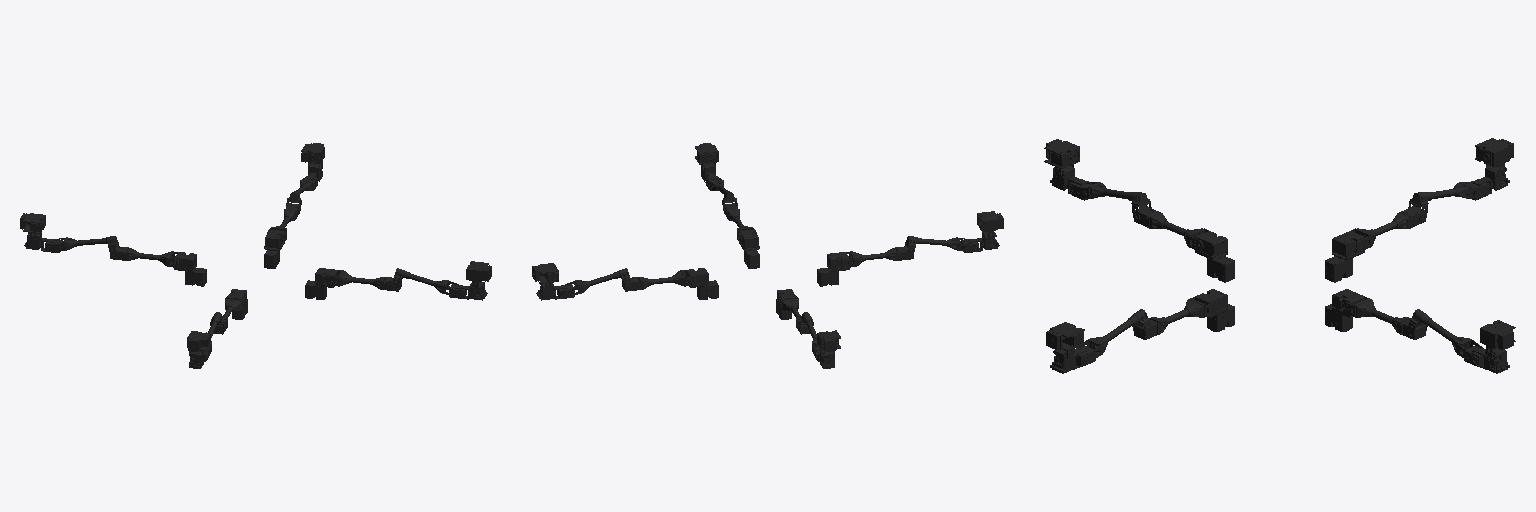
--- What the picture shows (computed from the rendered views, not written in the file) ---
3 views of the same robot in one strip: view 1: azimuth 30°, elevation 25°; view 2: azimuth 150°, elevation 25°; view 3: azimuth 270°, elevation 25° (orthographic).
Robot: LIMBERO — 37 links, 36 joints (24 revolute, 4 continuous, 8 fixed); root link base_link; default pose: all joints at 0.
Visible links, largest first — view 1: RF_femur, LH_femur, RF_tibia, LH_tibia; view 2: LF_femur, RH_femur, LF_tibia, RH_tibia; view 3: LF_femur, RF_femur, LH_femur, RH_femur, LF_tibia, RF_tibia, LH_driving_Link, LH_tibia, RF_driving_Link, RH_tibia, LF_driving_Link, RH_driving_Link (+4 smaller).
Link boxes in pixels (left/top/right/bottom): RF_femur: left=328, top=270, right=401, bottom=291; LH_femur: left=110, top=246, right=178, bottom=267; RF_tibia: left=392, top=268, right=461, bottom=297; LH_tibia: left=47, top=236, right=119, bottom=256; LF_femur: left=622, top=270, right=695, bottom=291; RH_femur: left=845, top=246, right=913, bottom=267; LF_tibia: left=562, top=268, right=631, bottom=297; RH_tibia: left=904, top=236, right=976, bottom=256; LF_femur: left=1344, top=296, right=1425, bottom=339; RF_femur: left=1134, top=296, right=1215, bottom=339; LH_femur: left=1351, top=206, right=1425, bottom=250; RH_femur: left=1134, top=206, right=1208, bottom=250; LF_tibia: left=1408, top=309, right=1485, bottom=364; RF_tibia: left=1074, top=309, right=1151, bottom=364; LH_driving_Link: left=1475, top=138, right=1513, bottom=176; LH_tibia: left=1408, top=181, right=1488, bottom=218; RF_driving_Link: left=1046, top=322, right=1084, bottom=358; RH_tibia: left=1071, top=181, right=1151, bottom=218; LF_driving_Link: left=1480, top=320, right=1515, bottom=358; RH_driving_Link: left=1044, top=139, right=1079, bottom=176.
Size in the robot's own frame: 1.05 by 1.05 by 0.16 metres.
32 mesh visuals loaded from 10 distinct referenced files (8 binary STL); not drawn: 5 (reference not matched to a file when rendering).

robot.urdf — LIMBERO:
<?xml version="1.0" ?>
<!-- =================================================================================== -->
<!-- |    This document was autogenerated by xacro from LIMBERO.xacro                  | -->
<!-- |    EDITING THIS FILE BY HAND IS NOT RECOMMENDED                                 | -->
<!-- =================================================================================== -->
<robot name="LIMBERO">
  <gazebo>
    <!-- ros_control plugin -->
    <plugin filename="libgazebo_ros2_control.so" name="gazebo_ros2_control">
      <parameters>/lbr_description/config/lbr_controller_with_grieel.yaml</parameters>
    </plugin>
  </gazebo>
  <link name="base_link">
    <inertial>
      <origin rpy="0 0 0" xyz="0 0 -0.0030083"/>
      <mass value="3.1152"/>
      <inertia ixx="0.0036482" ixy="7.8081E-07" ixz="1.7521E-06" iyy="0.0062179" iyz="-1.4424E-06" izz="0.0034682"/>
    </inertial>
    <visual>
      <origin rpy="0 0 0" xyz="0 0 0"/>
      <geometry>
        <mesh filename="meshes/base.STL" scale="1.0 1.0 1.0"/>
      </geometry>
      <material name="">
        <color rgba="0.2 0.2 0.2 1"/>
      </material>
    </visual>
    <collision>
      <origin rpy="0 0 0" xyz="0 0 0"/>
      <geometry>
        <mesh filename="meshes/base.STL" scale="1.0 1.0 1.0"/>
      </geometry>
    </collision>
  </link>
  <gazebo reference="base_link">
    <material>Gazebo/Black</material>
    <visual>
      <material>
        <ambient>0.2 0.2 0.2 1</ambient>
        <diffuse>0.2 0.2 0.2 1</diffuse>
        <specular>0.01 0.01 0.01 1</specular>
        <emissive>0.01 0.01 0.01 1</emissive>
      </material>
    </visual>
  </gazebo>
  <joint name="LF_joint" type="fixed">
    <origin rpy="0 0 0.7853981633974483" xyz="0.14142135623730953 0.1414213562373095 0"/>
    <parent link="base_link"/>
    <child link="LF_limb_root"/>
  </joint>
  <link name="LF_limb_root">
    <inertial>
      <origin rpy="0 0 0" xyz="-0.015029 -7.7571E-11 -0.047318"/>
      <mass value="0.08459"/>
      <inertia ixx="2.1548E-05" ixy="-4.775E-14" ixz="-1.6188E-07" iyy="3.834E-05" iyz="-8.2973E-14" izz="3.1728E-05"/>
    </inertial>
    <visual>
      <origin rpy="0 0 0" xyz="0 0 0"/>
      <geometry>
        <mesh filename="meshes/limb_root.STL"/>
      </geometry>
      <material name="">
        <color rgba="0.2 0.2 0.2 1"/>
      </material>
    </visual>
    <collision>
      <origin rpy="0 0 0" xyz="0 0 0"/>
      <geometry>
        <mesh filename="meshes/limb_root.STL"/>
      </geometry>
    </collision>
  </link>
  <link name="LF_coxa">
    <inertial>
      <origin rpy="0 0 0" xyz="0.015938 0.00063302 -0.0015013"/>
      <mass value="0.09109"/>
      <inertia ixx="2.352E-05" ixy="-1.6188E-07" ixz="4.775E-14" iyy="3.3634E-05" iyz="8.2973E-14" izz="4.2122E-05"/>
    </inertial>
    <visual>
      <origin rpy="0 0 0" xyz="0 0 0"/>
      <geometry>
        <mesh filename="meshes/coxa.STL"/>
      </geometry>
      <material name="">
        <color rgba="0.2 0.2 0.2 1"/>
      </material>
    </visual>
    <collision>
      <origin rpy="0 0 0" xyz="0 0 0"/>
      <geometry>
        <mesh filename="meshes/coxa.STL"/>
      </geometry>
    </collision>
  </link>
  <joint name="LF_B2C" type="revolute">
    <origin rpy="0 0 0" xyz="0 0 0"/>
    <parent link="LF_limb_root"/>
    <child link="LF_coxa"/>
    <axis xyz="0 0 1"/>
    <limit effort="5" lower="-3.14" upper="3.14" velocity="5"/>
    <dynamics damping="0.1" friction="0.4"/>
  </joint>
  <link name="LF_femur">
    <inertial>
      <origin rpy="0 0 0" xyz="0.10083 0.00014739 -3.217E-08"/>
      <mass value="0.12821"/>
      <inertia ixx="3.7005E-05" ixy="-1.9987E-08" ixz="-3.8346E-12" iyy="2.9934E-05" iyz="2.5988E-11" izz="4.8164E-05"/>
    </inertial>
    <visual>
      <origin rpy="0 0 0" xyz="0 0 0"/>
      <geometry>
        <mesh filename="meshes/femur.STL"/>
      </geometry>
      <material name="">
        <color rgba="0.2 0.2 0.2 1"/>
      </material>
    </visual>
    <collision>
      <origin rpy="0 0 0" xyz="0 0 0"/>
      <geometry>
        <mesh filename="meshes/femur.STL"/>
      </geometry>
    </collision>
  </link>
  <joint name="LF_C2F" type="revolute">
    <origin rpy="0 0 0" xyz="0.031 0 0"/>
    <parent link="LF_coxa"/>
    <child link="LF_femur"/>
    <axis xyz="0 1 0"/>
    <limit effort="5" lower="-3.14" upper="3.14" velocity="5"/>
    <dynamics damping="0.1" friction="0.4"/>
  </joint>
  <link name="LF_tibia">
    <inertial>
      <origin rpy="0 0 0" xyz="0.10298 1.1638E-07 0.019231"/>
      <mass value="0.061841"/>
      <inertia ixx="1.5486E-05" ixy="4.7072E-09" ixz="2.5637E-06" iyy="2.1826E-05" iyz="2.414E-08" izz="2.8843E-05"/>
    </inertial>
    <visual>
      <origin rpy="0 0 0" xyz="0 0 0"/>
      <geometry>
        <mesh filename="meshes/tibia.STL"/>
      </geometry>
      <material name="">
        <color rgba="0.2 0.2 0.2 1"/>
      </material>
    </visual>
    <collision>
      <origin rpy="0 0 0" xyz="0 0 0"/>
      <geometry>
        <mesh filename="meshes/tibia.STL"/>
      </geometry>
    </collision>
  </link>
  <joint name="LF_F2T" type="revolute">
    <origin rpy="0 0 0" xyz="0.2 0 0"/>
    <parent link="LF_femur"/>
    <child link="LF_tibia"/>
    <axis xyz="0 1 0"/>
    <limit effort="5" lower="-3.14" upper="3.14" velocity="5"/>
    <dynamics damping="0.1" friction="0.4"/>
  </joint>
  <link name="LF_limb_end">
    <inertial>
      <origin rpy="0 0 0" xyz="-0.011645 0.00042918 -9.53E-12"/>
      <mass value="0.081999"/>
      <inertia ixx="1.3061E-05" ixy="-3.7211E-08" ixz="3.1094E-14" iyy="1.9634E-05" iyz="-3.9438E-17" izz="2.2308E-05"/>
    </inertial>
    <visual>
      <origin rpy="0 0 0" xyz="0 0 0"/>
      <geometry>
        <mesh filename="meshes/limb_end.STL"/>
      </geometry>
      <material name="">
        <color rgba="0.2 0.2 0.2 1"/>
      </material>
    </visual>
    <collision>
      <origin rpy="0 0 0" xyz="0 0 0"/>
      <geometry>
        <mesh filename="meshes/limb_end.STL"/>
      </geometry>
    </collision>
  </link>
  <joint name="LF_T2E" type="revolute">
    <origin rpy="0 0 0" xyz="0.2 0 0"/>
    <parent link="LF_tibia"/>
    <child link="LF_limb_end"/>
    <axis xyz="0 1 0"/>
    <limit effort="5" lower="-3.14" upper="3.14" velocity="5"/>
    <dynamics damping="0.1" friction="0.4"/>
  </joint>
  <joint name="LH_joint" type="fixed">
    <origin rpy="0 0 2.356194490192345" xyz="-0.1414213562373095 0.14142135623730953 0"/>
    <parent link="base_link"/>
    <child link="LH_limb_root"/>
  </joint>
  <link name="LH_limb_root">
    <inertial>
      <origin rpy="0 0 0" xyz="-0.015029 -7.7571E-11 -0.047318"/>
      <mass value="0.08459"/>
      <inertia ixx="2.1548E-05" ixy="-4.775E-14" ixz="-1.6188E-07" iyy="3.834E-05" iyz="-8.2973E-14" izz="3.1728E-05"/>
    </inertial>
    <visual>
      <origin rpy="0 0 0" xyz="0 0 0"/>
      <geometry>
        <mesh filename="meshes/limb_root.STL"/>
      </geometry>
      <material name="">
        <color rgba="0.2 0.2 0.2 1"/>
      </material>
    </visual>
    <collision>
      <origin rpy="0 0 0" xyz="0 0 0"/>
      <geometry>
        <mesh filename="meshes/limb_root.STL"/>
      </geometry>
    </collision>
  </link>
  <link name="LH_coxa">
    <inertial>
      <origin rpy="0 0 0" xyz="0.015938 0.00063302 -0.0015013"/>
      <mass value="0.09109"/>
      <inertia ixx="2.352E-05" ixy="-1.6188E-07" ixz="4.775E-14" iyy="3.3634E-05" iyz="8.2973E-14" izz="4.2122E-05"/>
    </inertial>
    <visual>
      <origin rpy="0 0 0" xyz="0 0 0"/>
      <geometry>
        <mesh filename="meshes/coxa.STL"/>
      </geometry>
      <material name="">
        <color rgba="0.2 0.2 0.2 1"/>
      </material>
    </visual>
    <collision>
      <origin rpy="0 0 0" xyz="0 0 0"/>
      <geometry>
        <mesh filename="meshes/coxa.STL"/>
      </geometry>
    </collision>
  </link>
  <joint name="LH_B2C" type="revolute">
    <origin rpy="0 0 0" xyz="0 0 0"/>
    <parent link="LH_limb_root"/>
    <child link="LH_coxa"/>
    <axis xyz="0 0 1"/>
    <limit effort="5" lower="-3.14" upper="3.14" velocity="5"/>
    <dynamics damping="0.1" friction="0.4"/>
  </joint>
  <link name="LH_femur">
    <inertial>
      <origin rpy="0 0 0" xyz="0.10083 0.00014739 -3.217E-08"/>
      <mass value="0.12821"/>
      <inertia ixx="3.7005E-05" ixy="-1.9987E-08" ixz="-3.8346E-12" iyy="2.9934E-05" iyz="2.5988E-11" izz="4.8164E-05"/>
    </inertial>
    <visual>
      <origin rpy="0 0 0" xyz="0 0 0"/>
      <geometry>
        <mesh filename="meshes/femur.STL"/>
      </geometry>
      <material name="">
        <color rgba="0.2 0.2 0.2 1"/>
      </material>
    </visual>
    <collision>
      <origin rpy="0 0 0" xyz="0 0 0"/>
      <geometry>
        <mesh filename="meshes/femur.STL"/>
      </geometry>
    </collision>
  </link>
  <joint name="LH_C2F" type="revolute">
    <origin rpy="0 0 0" xyz="0.031 0 0"/>
    <parent link="LH_coxa"/>
    <child link="LH_femur"/>
    <axis xyz="0 1 0"/>
    <limit effort="5" lower="-3.14" upper="3.14" velocity="5"/>
    <dynamics damping="0.1" friction="0.4"/>
  </joint>
  <link name="LH_tibia">
    <inertial>
      <origin rpy="0 0 0" xyz="0.10298 1.1638E-07 0.019231"/>
      <mass value="0.061841"/>
      <inertia ixx="1.5486E-05" ixy="4.7072E-09" ixz="2.5637E-06" iyy="2.1826E-05" iyz="2.414E-08" izz="2.8843E-05"/>
    </inertial>
    <visual>
      <origin rpy="0 0 0" xyz="0 0 0"/>
      <geometry>
        <mesh filename="meshes/tibia.STL"/>
      </geometry>
      <material name="">
        <color rgba="0.2 0.2 0.2 1"/>
      </material>
    </visual>
    <collision>
      <origin rpy="0 0 0" xyz="0 0 0"/>
      <geometry>
        <mesh filename="meshes/tibia.STL"/>
      </geometry>
    </collision>
  </link>
  <joint name="LH_F2T" type="revolute">
    <origin rpy="0 0 0" xyz="0.2 0 0"/>
    <parent link="LH_femur"/>
    <child link="LH_tibia"/>
    <axis xyz="0 1 0"/>
    <limit effort="5" lower="-3.14" upper="3.14" velocity="5"/>
    <dynamics damping="0.1" friction="0.4"/>
  </joint>
  <link name="LH_limb_end">
    <inertial>
      <origin rpy="0 0 0" xyz="-0.011645 0.00042918 -9.53E-12"/>
      <mass value="0.081999"/>
      <inertia ixx="1.3061E-05" ixy="-3.7211E-08" ixz="3.1094E-14" iyy="1.9634E-05" iyz="-3.9438E-17" izz="2.2308E-05"/>
    </inertial>
    <visual>
      <origin rpy="0 0 0" xyz="0 0 0"/>
      <geometry>
        <mesh filename="meshes/limb_end.STL"/>
      </geometry>
      <material name="">
        <color rgba="0.2 0.2 0.2 1"/>
      </material>
    </visual>
    <collision>
      <origin rpy="0 0 0" xyz="0 0 0"/>
      <geometry>
        <mesh filename="meshes/limb_end.STL"/>
      </geometry>
    </collision>
  </link>
  <joint name="LH_T2E" type="revolute">
    <origin rpy="0 0 0" xyz="0.2 0 0"/>
    <parent link="LH_tibia"/>
    <child link="LH_limb_end"/>
    <axis xyz="0 1 0"/>
    <limit effort="5" lower="-3.14" upper="3.14" velocity="5"/>
    <dynamics damping="0.1" friction="0.4"/>
  </joint>
  <joint name="RH_joint" type="fixed">
    <origin rpy="0 0 3.9269908169872414" xyz="-0.14142135623730953 -0.1414213562373095 0"/>
    <parent link="base_link"/>
    <child link="RH_limb_root"/>
  </joint>
  <link name="RH_limb_root">
    <inertial>
      <origin rpy="0 0 0" xyz="-0.015029 -7.7571E-11 -0.047318"/>
      <mass value="0.08459"/>
      <inertia ixx="2.1548E-05" ixy="-4.775E-14" ixz="-1.6188E-07" iyy="3.834E-05" iyz="-8.2973E-14" izz="3.1728E-05"/>
    </inertial>
    <visual>
      <origin rpy="0 0 0" xyz="0 0 0"/>
      <geometry>
        <mesh filename="meshes/limb_root.STL"/>
      </geometry>
      <material name="">
        <color rgba="0.2 0.2 0.2 1"/>
      </material>
    </visual>
    <collision>
      <origin rpy="0 0 0" xyz="0 0 0"/>
      <geometry>
        <mesh filename="meshes/limb_root.STL"/>
      </geometry>
    </collision>
  </link>
  <link name="RH_coxa">
    <inertial>
      <origin rpy="0 0 0" xyz="0.015938 0.00063302 -0.0015013"/>
      <mass value="0.09109"/>
      <inertia ixx="2.352E-05" ixy="-1.6188E-07" ixz="4.775E-14" iyy="3.3634E-05" iyz="8.2973E-14" izz="4.2122E-05"/>
    </inertial>
    <visual>
      <origin rpy="0 0 0" xyz="0 0 0"/>
      <geometry>
        <mesh filename="meshes/coxa.STL"/>
      </geometry>
      <material name="">
        <color rgba="0.2 0.2 0.2 1"/>
      </material>
    </visual>
    <collision>
      <origin rpy="0 0 0" xyz="0 0 0"/>
      <geometry>
        <mesh filename="meshes/coxa.STL"/>
      </geometry>
    </collision>
  </link>
  <joint name="RH_B2C" type="revolute">
    <origin rpy="0 0 0" xyz="0 0 0"/>
    <parent link="RH_limb_root"/>
    <child link="RH_coxa"/>
    <axis xyz="0 0 1"/>
    <limit effort="5" lower="-3.14" upper="3.14" velocity="5"/>
    <dynamics damping="0.1" friction="0.4"/>
  </joint>
  <link name="RH_femur">
    <inertial>
      <origin rpy="0 0 0" xyz="0.10083 0.00014739 -3.217E-08"/>
      <mass value="0.12821"/>
      <inertia ixx="3.7005E-05" ixy="-1.9987E-08" ixz="-3.8346E-12" iyy="2.9934E-05" iyz="2.5988E-11" izz="4.8164E-05"/>
    </inertial>
    <visual>
      <origin rpy="0 0 0" xyz="0 0 0"/>
      <geometry>
        <mesh filename="meshes/femur.STL"/>
      </geometry>
      <material name="">
        <color rgba="0.2 0.2 0.2 1"/>
      </material>
    </visual>
    <collision>
      <origin rpy="0 0 0" xyz="0 0 0"/>
      <geometry>
        <mesh filename="meshes/femur.STL"/>
      </geometry>
    </collision>
  </link>
  <joint name="RH_C2F" type="revolute">
    <origin rpy="0 0 0" xyz="0.031 0 0"/>
    <parent link="RH_coxa"/>
    <child link="RH_femur"/>
    <axis xyz="0 1 0"/>
    <limit effort="5" lower="-3.14" upper="3.14" velocity="5"/>
    <dynamics damping="0.1" friction="0.4"/>
  </joint>
  <link name="RH_tibia">
    <inertial>
      <origin rpy="0 0 0" xyz="0.10298 1.1638E-07 0.019231"/>
      <mass value="0.061841"/>
      <inertia ixx="1.5486E-05" ixy="4.7072E-09" ixz="2.5637E-06" iyy="2.1826E-05" iyz="2.414E-08" izz="2.8843E-05"/>
    </inertial>
    <visual>
      <origin rpy="0 0 0" xyz="0 0 0"/>
      <geometry>
        <mesh filename="meshes/tibia.STL"/>
      </geometry>
      <material name="">
        <color rgba="0.2 0.2 0.2 1"/>
      </material>
    </visual>
    <collision>
      <origin rpy="0 0 0" xyz="0 0 0"/>
      <geometry>
        <mesh filename="meshes/tibia.STL"/>
      </geometry>
    </collision>
  </link>
  <joint name="RH_F2T" type="revolute">
    <origin rpy="0 0 0" xyz="0.2 0 0"/>
    <parent link="RH_femur"/>
    <child link="RH_tibia"/>
    <axis xyz="0 1 0"/>
    <limit effort="5" lower="-3.14" upper="3.14" velocity="5"/>
    <dynamics damping="0.1" friction="0.4"/>
  </joint>
  <link name="RH_limb_end">
    <inertial>
      <origin rpy="0 0 0" xyz="-0.011645 0.00042918 -9.53E-12"/>
      <mass value="0.081999"/>
      <inertia ixx="1.3061E-05" ixy="-3.7211E-08" ixz="3.1094E-14" iyy="1.9634E-05" iyz="-3.9438E-17" izz="2.2308E-05"/>
    </inertial>
    <visual>
      <origin rpy="0 0 0" xyz="0 0 0"/>
      <geometry>
        <mesh filename="meshes/limb_end.STL"/>
      </geometry>
      <material name="">
        <color rgba="0.2 0.2 0.2 1"/>
      </material>
    </visual>
    <collision>
      <origin rpy="0 0 0" xyz="0 0 0"/>
      <geometry>
        <mesh filename="meshes/limb_end.STL"/>
      </geometry>
    </collision>
  </link>
  <joint name="RH_T2E" type="revolute">
    <origin rpy="0 0 0" xyz="0.2 0 0"/>
    <parent link="RH_tibia"/>
    <child link="RH_limb_end"/>
    <axis xyz="0 1 0"/>
    <limit effort="5" lower="-3.14" upper="3.14" velocity="5"/>
    <dynamics damping="0.1" friction="0.4"/>
  </joint>
  <joint name="RF_joint" type="fixed">
    <origin rpy="0 0 5.497787143782138" xyz="0.14142135623730948 -0.14142135623730953 0"/>
    <parent link="base_link"/>
    <child link="RF_limb_root"/>
  </joint>
  <link name="RF_limb_root">
    <inertial>
      <origin rpy="0 0 0" xyz="-0.015029 -7.7571E-11 -0.047318"/>
      <mass value="0.08459"/>
      <inertia ixx="2.1548E-05" ixy="-4.775E-14" ixz="-1.6188E-07" iyy="3.834E-05" iyz="-8.2973E-14" izz="3.1728E-05"/>
    </inertial>
    <visual>
      <origin rpy="0 0 0" xyz="0 0 0"/>
      <geometry>
        <mesh filename="meshes/limb_root.STL"/>
      </geometry>
      <material name="">
        <color rgba="0.2 0.2 0.2 1"/>
      </material>
    </visual>
    <collision>
      <origin rpy="0 0 0" xyz="0 0 0"/>
      <geometry>
        <mesh filename="meshes/limb_root.STL"/>
      </geometry>
    </collision>
  </link>
  <link name="RF_coxa">
    <inertial>
      <origin rpy="0 0 0" xyz="0.015938 0.00063302 -0.0015013"/>
      <mass value="0.09109"/>
      <inertia ixx="2.352E-05" ixy="-1.6188E-07" ixz="4.775E-14" iyy="3.3634E-05" iyz="8.2973E-14" izz="4.2122E-05"/>
    </inertial>
    <visual>
      <origin rpy="0 0 0" xyz="0 0 0"/>
      <geometry>
        <mesh filename="meshes/coxa.STL"/>
      </geometry>
      <material name="">
        <color rgba="0.2 0.2 0.2 1"/>
      </material>
    </visual>
    <collision>
      <origin rpy="0 0 0" xyz="0 0 0"/>
      <geometry>
        <mesh filename="meshes/coxa.STL"/>
      </geometry>
    </collision>
  </link>
  <joint name="RF_B2C" type="revolute">
    <origin rpy="0 0 0" xyz="0 0 0"/>
    <parent link="RF_limb_root"/>
    <child link="RF_coxa"/>
    <axis xyz="0 0 1"/>
    <limit effort="5" lower="-3.14" upper="3.14" velocity="5"/>
    <dynamics damping="0.1" friction="0.4"/>
  </joint>
  <link name="RF_femur">
    <inertial>
      <origin rpy="0 0 0" xyz="0.10083 0.00014739 -3.217E-08"/>
      <mass value="0.12821"/>
      <inertia ixx="3.7005E-05" ixy="-1.9987E-08" ixz="-3.8346E-12" iyy="2.9934E-05" iyz="2.5988E-11" izz="4.8164E-05"/>
    </inertial>
    <visual>
      <origin rpy="0 0 0" xyz="0 0 0"/>
      <geometry>
        <mesh filename="meshes/femur.STL"/>
      </geometry>
      <material name="">
        <color rgba="0.2 0.2 0.2 1"/>
      </material>
    </visual>
    <collision>
      <origin rpy="0 0 0" xyz="0 0 0"/>
      <geometry>
        <mesh filename="meshes/femur.STL"/>
      </geometry>
    </collision>
  </link>
  <joint name="RF_C2F" type="revolute">
    <origin rpy="0 0 0" xyz="0.031 0 0"/>
    <parent link="RF_coxa"/>
    <child link="RF_femur"/>
    <axis xyz="0 1 0"/>
    <limit effort="5" lower="-3.14" upper="3.14" velocity="5"/>
    <dynamics damping="0.1" friction="0.4"/>
  </joint>
  <link name="RF_tibia">
    <inertial>
      <origin rpy="0 0 0" xyz="0.10298 1.1638E-07 0.019231"/>
      <mass value="0.061841"/>
      <inertia ixx="1.5486E-05" ixy="4.7072E-09" ixz="2.5637E-06" iyy="2.1826E-05" iyz="2.414E-08" izz="2.8843E-05"/>
    </inertial>
    <visual>
      <origin rpy="0 0 0" xyz="0 0 0"/>
      <geometry>
        <mesh filename="meshes/tibia.STL"/>
      </geometry>
      <material name="">
        <color rgba="0.2 0.2 0.2 1"/>
      </material>
    </visual>
    <collision>
      <origin rpy="0 0 0" xyz="0 0 0"/>
      <geometry>
        <mesh filename="meshes/tibia.STL"/>
      </geometry>
    </collision>
  </link>
  <joint name="RF_F2T" type="revolute">
    <origin rpy="0 0 0" xyz="0.2 0 0"/>
    <parent link="RF_femur"/>
    <child link="RF_tibia"/>
    <axis xyz="0 1 0"/>
    <limit effort="5" lower="-3.14" upper="3.14" velocity="5"/>
    <dynamics damping="0.1" friction="0.4"/>
  </joint>
  <link name="RF_limb_end">
    <inertial>
      <origin rpy="0 0 0" xyz="-0.011645 0.00042918 -9.53E-12"/>
      <mass value="0.081999"/>
      <inertia ixx="1.3061E-05" ixy="-3.7211E-08" ixz="3.1094E-14" iyy="1.9634E-05" iyz="-3.9438E-17" izz="2.2308E-05"/>
    </inertial>
    <visual>
      <origin rpy="0 0 0" xyz="0 0 0"/>
      <geometry>
        <mesh filename="meshes/limb_end.STL"/>
      </geometry>
      <material name="">
        <color rgba="0.2 0.2 0.2 1"/>
      </material>
    </visual>
    <collision>
      <origin rpy="0 0 0" xyz="0 0 0"/>
      <geometry>
        <mesh filename="meshes/limb_end.STL"/>
      </geometry>
    </collision>
  </link>
  <joint name="RF_T2E" type="revolute">
    <origin rpy="0 0 0" xyz="0.2 0 0"/>
    <parent link="RF_tibia"/>
    <child link="RF_limb_end"/>
    <axis xyz="0 1 0"/>
    <limit effort="5" lower="-3.14" upper="3.14" velocity="5"/>
    <dynamics damping="0.1" friction="0.4"/>
  </joint>
  <joint name="LF_E2grieel" type="fixed">
    <origin rpy="-1.5708 0 0" xyz="0 0 0"/>
    <parent link="LF_limb_end"/>
    <child link="LF_wristH_Link"/>
    <!-- <axis
        xyz="0 1 0" />
      <limit
        lower="0"
        upper="0"
        effort="0"
        velocity="0" /> -->
  </joint>
  <link name="LF_wristH_Link">
    <inertial>
      <origin rpy="0 0 0" xyz="0.011821 8.7424E-07 4.3619E-14"/>
      <mass value="0.00824"/>
      <inertia ixx="1.7943E-06" ixy="-3.8552E-19" ixz="7.4101E-19" iyy="2.9379E-06" iyz="-2.3646E-09" izz="1.6633E-06"/>
    </inertial>
    <visual>
      <origin rpy="0 0 0" xyz="0 0 0"/>
      <geometry>
        <mesh filename="meshes/wristH_Link.STL"/>
      </geometry>
      <material name="">
        <color rgba="0.2 0.2 0.2 1"/>
      </material>
    </visual>
    <collision>
      <origin rpy="0 0 0" xyz="0 0 0"/>
      <geometry>
        <mesh filename="meshes/wristH_Link.STL"/>
      </geometry>
    </collision>
  </link>
  <link name="LF_wristV_Link">
    <inertial>
      <origin rpy="0 0 0" xyz="0.0214166502499745 0.000471129500725836 0.0113219457469963"/>
      <mass value="0.102059813857681"/>
      <inertia ixx="2.51506057023328E-05" ixy="-5.87568310882068E-07" ixz="-5.02138918625881E-10" iyy="2.47069145197251E-05" iyz="-1.3142285327366E-09" izz="1.79824315026287E-05"/>
    </inertial>
    <visual>
      <origin rpy="0 0 0" xyz="0 0 0"/>
      <geometry>
        <mesh filename="meshes/wristV_Link.STL"/>
      </geometry>
      <material name="">
        <color rgba="0.2 0.2 0.2 1"/>
      </material>
    </visual>
    <collision>
      <origin rpy="0 0 0" xyz="0 0 0"/>
      <geometry>
        <mesh filename="meshes/wristV_Link.STL"/>
      </geometry>
    </collision>
  </link>
  <joint name="LF_wristH" type="revolute">
    <origin rpy="1.5708 0 0" xyz="0.025851 0 0"/>
    <parent link="LF_wristH_Link"/>
    <child link="LF_wristV_Link"/>
    <axis xyz="1 0 0"/>
    <limit effort="5" lower="-3.14159265358" upper="3.14159265358" velocity="5"/>
    <dynamics damping="0.1" friction="0.4"/>
  </joint>
  <link name="LF_driving_Link">
    <inertial>
      <origin rpy="0 0 0" xyz="5.44808065291863E-05 0.00431293338596027 0.0448909989385787"/>
      <mass value="0.132659951311712"/>
      <inertia ixx="3.76031003493078E-05" ixy="1.06164546307058E-08" ixz="7.08867360655478E-09" iyy="3.46919596241853E-05" iyz="4.14273177876885E-09" izz="4.32511275712205E-05"/>
    </inertial>
    <visual>
      <origin rpy="0 0 0" xyz="0 0 0"/>
      <geometry>
        <mesh filename="meshes/driving_Link.STL"/>
      </geometry>
      <material name="">
        <color rgba="0.2 0.2 0.2 1"/>
      </material>
    </visual>
    <collision>
      <origin rpy="0 0 0" xyz="0 0 0"/>
      <geometry>
        <mesh filename="meshes/driving_Link.STL"/>
      </geometry>
    </collision>
  </link>
  <joint name="LF_wristV" type="revolute">
    <origin rpy="0 0 0" xyz="0.0209 0 0.024008"/>
    <parent link="LF_wristV_Link"/>
    <child link="LF_driving_Link"/>
    <axis xyz="0 1 0"/>
    <limit effort="5" lower="-0.78539816339" upper="1.57079632679" velocity="5"/>
    <dynamics damping="0.1" friction="0.4"/>
  </joint>
  <link name="LF_gripper_Link">
    <inertial>
      <origin rpy="0 0 0" xyz="0.0710296935233056 0.0037135355484196 -0.00222742536711223"/>
      <mass value="0.415840817883391"/>
      <inertia ixx="0.000103581229161757" ixy="-5.56154912627397E-07" ixz="1.25700028997968E-06" iyy="5.98220979474832E-05" iyz="-5.92848495250994E-08" izz="8.09792661333327E-05"/>
    </inertial>
    <visual>
      <origin rpy="0 0 0" xyz="0 0 0"/>
      <geometry>
        <mesh filename="meshes/gripper_Link.STL"/>
      </geometry>
      <material name="">
        <color rgba="0.2 0.2 0.2 1"/>
      </material>
    </visual>
    <collision name="LF_gripper_Link_collision">
      <origin rpy="0 0 0" xyz="0 0 0"/>
      <geometry>
        <mesh filename="meshes/gripper_Link.STL"/>
      </geometry>
    </collision>
  </link>
  <joint name="LF_driving" type="continuous">
    <origin rpy="0 0 0" xyz="0.0131 0 0.04576"/>
    <parent link="LF_driving_Link"/>
    <child link="LF_gripper_Link"/>
    <axis xyz="-1 0 0"/>
    <dynamics damping="0.1" friction="0.4"/>
  </joint>
  <!-- Gazebo plugin for contact sensor, collision name like that because of parsing errors in the urdf  -->
  <gazebo reference="LF_gripper_Link">
    <sensor name="LF_gripper_bumper_sensor" type="contact">
      <always_on>true</always_on>
      <update_rate>100</update_rate>
      <contact>
        <collision>LF_gripper_Link_collision_collision</collision>
      </contact>
      <plugin filename="libgazebo_ros_bumper.so" name="LF_gripper_bumper">
        <ros>
          <namespace>LF</namespace>
        </ros>
        <frame_name>LF_gripper_link</frame_name>
      </plugin>
    </sensor>
  </gazebo>
  <joint name="LH_E2grieel" type="fixed">
    <origin rpy="-1.5708 0 0" xyz="0 0 0"/>
    <parent link="LH_limb_end"/>
    <child link="LH_wristH_Link"/>
    <!-- <axis
        xyz="0 1 0" />
      <limit
        lower="0"
        upper="0"
        effort="0"
        velocity="0" /> -->
  </joint>
  <link name="LH_wristH_Link">
    <inertial>
      <origin rpy="0 0 0" xyz="0.011821 8.7424E-07 4.3619E-14"/>
      <mass value="0.00824"/>
      <inertia ixx="1.7943E-06" ixy="-3.8552E-19" ixz="7.4101E-19" iyy="2.9379E-06" iyz="-2.3646E-09" izz="1.6633E-06"/>
    </inertial>
    <visual>
      <origin rpy="0 0 0" xyz="0 0 0"/>
      <geometry>
        <mesh filename="meshes/wristH_Link.STL"/>
      </geometry>
      <material name="">
        <color rgba="0.2 0.2 0.2 1"/>
      </material>
    </visual>
    <collision>
      <origin rpy="0 0 0" xyz="0 0 0"/>
      <geometry>
        <mesh filename="meshes/wristH_Link.STL"/>
      </geometry>
    </collision>
  </link>
  <link name="LH_wristV_Link">
    <inertial>
      <origin rpy="0 0 0" xyz="0.0214166502499745 0.000471129500725836 0.0113219457469963"/>
      <mass value="0.102059813857681"/>
      <inertia ixx="2.51506057023328E-05" ixy="-5.87568310882068E-07" ixz="-5.02138918625881E-10" iyy="2.47069145197251E-05" iyz="-1.3142285327366E-09" izz="1.79824315026287E-05"/>
    </inertial>
    <visual>
      <origin rpy="0 0 0" xyz="0 0 0"/>
      <geometry>
        <mesh filename="meshes/wristV_Link.STL"/>
      </geometry>
      <material name="">
        <color rgba="0.2 0.2 0.2 1"/>
      </material>
    </visual>
    <collision>
      <origin rpy="0 0 0" xyz="0 0 0"/>
      <geometry>
        <mesh filename="meshes/wristV_Link.STL"/>
      </geometry>
    </collision>
  </link>
  <joint name="LH_wristH" type="revolute">
    <origin rpy="1.5708 0 0" xyz="0.025851 0 0"/>
    <parent link="LH_wristH_Link"/>
    <child link="LH_wristV_Link"/>
    <axis xyz="1 0 0"/>
    <limit effort="5" lower="-3.14159265358" upper="3.14159265358" velocity="5"/>
    <dynamics damping="0.1" friction="0.4"/>
  </joint>
  <link name="LH_driving_Link">
    <inertial>
      <origin rpy="0 0 0" xyz="5.44808065291863E-05 0.00431293338596027 0.0448909989385787"/>
      <mass value="0.132659951311712"/>
      <inertia ixx="3.76031003493078E-05" ixy="1.06164546307058E-08" ixz="7.08867360655478E-09" iyy="3.46919596241853E-05" iyz="4.14273177876885E-09" izz="4.32511275712205E-05"/>
    </inertial>
    <visual>
      <origin rpy="0 0 0" xyz="0 0 0"/>
      <geometry>
        <mesh filename="meshes/driving_Link.STL"/>
      </geometry>
      <material name="">
        <color rgba="0.2 0.2 0.2 1"/>
      </material>
    </visual>
    <collision>
      <origin rpy="0 0 0" xyz="0 0 0"/>
      <geometry>
        <mesh filename="meshes/driving_Link.STL"/>
      </geometry>
    </collision>
  </link>
  <joint name="LH_wristV" type="revolute">
    <origin rpy="0 0 0" xyz="0.0209 0 0.024008"/>
    <parent link="LH_wristV_Link"/>
    <child link="LH_driving_Link"/>
    <axis xyz="0 1 0"/>
    <limit effort="5" lower="-0.78539816339" upper="1.57079632679" velocity="5"/>
    <dynamics damping="0.1" friction="0.4"/>
  </joint>
  <link name="LH_gripper_Link">
    <inertial>
      <origin rpy="0 0 0" xyz="0.0710296935233056 0.0037135355484196 -0.00222742536711223"/>
      <mass value="0.415840817883391"/>
      <inertia ixx="0.000103581229161757" ixy="-5.56154912627397E-07" ixz="1.25700028997968E-06" iyy="5.98220979474832E-05" iyz="-5.92848495250994E-08" izz="8.09792661333327E-05"/>
    </inertial>
    <visual>
      <origin rpy="0 0 0" xyz="0 0 0"/>
      <geometry>
        <mesh filename="meshes/gripper_Link.STL"/>
      </geometry>
      <material name="">
        <color rgba="0.2 0.2 0.2 1"/>
      </material>
    </visual>
    <collision name="LH_gripper_Link_collision">
      <origin rpy="0 0 0" xyz="0 0 0"/>
      <geometry>
        <mesh filename="meshes/gripper_Link.STL"/>
      </geometry>
    </collision>
  </link>
  <joint name="LH_driving" type="continuous">
    <origin rpy="0 0 0" xyz="0.0131 0 0.04576"/>
    <parent link="LH_driving_Link"/>
    <child link="LH_gripper_Link"/>
    <axis xyz="-1 0 0"/>
    <dynamics damping="0.1" friction="0.4"/>
  </joint>
  <!-- Gazebo plugin for contact sensor, collision name like that because of parsing errors in the urdf  -->
  <gazebo reference="LH_gripper_Link">
    <sensor name="LH_gripper_bumper_sensor" type="contact">
      <always_on>true</always_on>
      <update_rate>100</update_rate>
      <contact>
        <collision>LH_gripper_Link_collision_collision</collision>
      </contact>
      <plugin filename="libgazebo_ros_bumper.so" name="LH_gripper_bumper">
        <ros>
          <namespace>LH</namespace>
        </ros>
        <frame_name>LH_gripper_link</frame_name>
      </plugin>
    </sensor>
  </gazebo>
  <joint name="RH_E2grieel" type="fixed">
    <origin rpy="-1.5708 0 0" xyz="0 0 0"/>
    <parent link="RH_limb_end"/>
    <child link="RH_wristH_Link"/>
    <!-- <axis
        xyz="0 1 0" />
      <limit
        lower="0"
        upper="0"
        effort="0"
        velocity="0" /> -->
  </joint>
  <link name="RH_wristH_Link">
    <inertial>
      <origin rpy="0 0 0" xyz="0.011821 8.7424E-07 4.3619E-14"/>
      <mass value="0.00824"/>
      <inertia ixx="1.7943E-06" ixy="-3.8552E-19" ixz="7.4101E-19" iyy="2.9379E-06" iyz="-2.3646E-09" izz="1.6633E-06"/>
    </inertial>
    <visual>
      <origin rpy="0 0 0" xyz="0 0 0"/>
      <geometry>
        <mesh filename="meshes/wristH_Link.STL"/>
      </geometry>
      <material name="">
        <color rgba="0.2 0.2 0.2 1"/>
      </material>
    </visual>
    <collision>
      <origin rpy="0 0 0" xyz="0 0 0"/>
      <geometry>
        <mesh filename="meshes/wristH_Link.STL"/>
      </geometry>
    </collision>
  </link>
  <link name="RH_wristV_Link">
    <inertial>
      <origin rpy="0 0 0" xyz="0.0214166502499745 0.000471129500725836 0.0113219457469963"/>
      <mass value="0.102059813857681"/>
      <inertia ixx="2.51506057023328E-05" ixy="-5.87568310882068E-07" ixz="-5.02138918625881E-10" iyy="2.47069145197251E-05" iyz="-1.3142285327366E-09" izz="1.79824315026287E-05"/>
    </inertial>
    <visual>
      <origin rpy="0 0 0" xyz="0 0 0"/>
      <geometry>
        <mesh filename="meshes/wristV_Link.STL"/>
      </geometry>
      <material name="">
        <color rgba="0.2 0.2 0.2 1"/>
      </material>
    </visual>
    <collision>
      <origin rpy="0 0 0" xyz="0 0 0"/>
      <geometry>
        <mesh filename="meshes/wristV_Link.STL"/>
      </geometry>
    </collision>
  </link>
  <joint name="RH_wristH" type="revolute">
    <origin rpy="1.5708 0 0" xyz="0.025851 0 0"/>
    <parent link="RH_wristH_Link"/>
    <child link="RH_wristV_Link"/>
    <axis xyz="1 0 0"/>
    <limit effort="5" lower="-3.14159265358" upper="3.14159265358" velocity="5"/>
    <dynamics damping="0.1" friction="0.4"/>
  </joint>
  <link name="RH_driving_Link">
    <inertial>
      <origin rpy="0 0 0" xyz="5.44808065291863E-05 0.00431293338596027 0.0448909989385787"/>
      <mass value="0.132659951311712"/>
      <inertia ixx="3.76031003493078E-05" ixy="1.06164546307058E-08" ixz="7.08867360655478E-09" iyy="3.46919596241853E-05" iyz="4.14273177876885E-09" izz="4.32511275712205E-05"/>
    </inertial>
    <visual>
      <origin rpy="0 0 0" xyz="0 0 0"/>
      <geometry>
        <mesh filename="meshes/driving_Link.STL"/>
      </geometry>
      <material name="">
        <color rgba="0.2 0.2 0.2 1"/>
      </material>
    </visual>
    <collision>
      <origin rpy="0 0 0" xyz="0 0 0"/>
      <geometry>
        <mesh filename="meshes/driving_Link.STL"/>
      </geometry>
    </collision>
  </link>
  <joint name="RH_wristV" type="revolute">
    <origin rpy="0 0 0" xyz="0.0209 0 0.024008"/>
    <parent link="RH_wristV_Link"/>
    <child link="RH_driving_Link"/>
    <axis xyz="0 1 0"/>
    <limit effort="5" lower="-0.78539816339" upper="1.57079632679" velocity="5"/>
    <dynamics damping="0.1" friction="0.4"/>
  </joint>
  <link name="RH_gripper_Link">
    <inertial>
      <origin rpy="0 0 0" xyz="0.0710296935233056 0.0037135355484196 -0.00222742536711223"/>
      <mass value="0.415840817883391"/>
      <inertia ixx="0.000103581229161757" ixy="-5.56154912627397E-07" ixz="1.25700028997968E-06" iyy="5.98220979474832E-05" iyz="-5.92848495250994E-08" izz="8.09792661333327E-05"/>
    </inertial>
    <visual>
      <origin rpy="0 0 0" xyz="0 0 0"/>
      <geometry>
        <mesh filename="meshes/gripper_Link.STL"/>
      </geometry>
      <material name="">
        <color rgba="0.2 0.2 0.2 1"/>
      </material>
    </visual>
    <collision name="RH_gripper_Link_collision">
      <origin rpy="0 0 0" xyz="0 0 0"/>
      <geometry>
        <mesh filename="meshes/gripper_Link.STL"/>
      </geometry>
    </collision>
  </link>
  <joint name="RH_driving" type="continuous">
    <origin rpy="0 0 0" xyz="0.0131 0 0.04576"/>
    <parent link="RH_driving_Link"/>
    <child link="RH_gripper_Link"/>
    <axis xyz="-1 0 0"/>
    <dynamics damping="0.1" friction="0.4"/>
  </joint>
  <!-- Gazebo plugin for contact sensor, collision name like that because of parsing errors in the urdf  -->
  <gazebo reference="RH_gripper_Link">
    <sensor name="RH_gripper_bumper_sensor" type="contact">
      <always_on>true</always_on>
      <update_rate>100</update_rate>
      <contact>
        <collision>RH_gripper_Link_collision_collision</collision>
      </contact>
      <plugin filename="libgazebo_ros_bumper.so" name="RH_gripper_bumper">
        <ros>
          <namespace>RH</namespace>
        </ros>
        <frame_name>RH_gripper_link</frame_name>
      </plugin>
    </sensor>
  </gazebo>
  <joint name="RF_E2grieel" type="fixed">
    <origin rpy="-1.5708 0 0" xyz="0 0 0"/>
    <parent link="RF_limb_end"/>
    <child link="RF_wristH_Link"/>
    <!-- <axis
        xyz="0 1 0" />
      <limit
        lower="0"
        upper="0"
        effort="0"
        velocity="0" /> -->
  </joint>
  <link name="RF_wristH_Link">
    <inertial>
      <origin rpy="0 0 0" xyz="0.011821 8.7424E-07 4.3619E-14"/>
      <mass value="0.00824"/>
      <inertia ixx="1.7943E-06" ixy="-3.8552E-19" ixz="7.4101E-19" iyy="2.9379E-06" iyz="-2.3646E-09" izz="1.6633E-06"/>
    </inertial>
    <visual>
      <origin rpy="0 0 0" xyz="0 0 0"/>
      <geometry>
        <mesh filename="meshes/wristH_Link.STL"/>
      </geometry>
      <material name="">
        <color rgba="0.2 0.2 0.2 1"/>
      </material>
    </visual>
    <collision>
      <origin rpy="0 0 0" xyz="0 0 0"/>
      <geometry>
        <mesh filename="meshes/wristH_Link.STL"/>
      </geometry>
    </collision>
  </link>
  <link name="RF_wristV_Link">
    <inertial>
      <origin rpy="0 0 0" xyz="0.0214166502499745 0.000471129500725836 0.0113219457469963"/>
      <mass value="0.102059813857681"/>
      <inertia ixx="2.51506057023328E-05" ixy="-5.87568310882068E-07" ixz="-5.02138918625881E-10" iyy="2.47069145197251E-05" iyz="-1.3142285327366E-09" izz="1.79824315026287E-05"/>
    </inertial>
    <visual>
      <origin rpy="0 0 0" xyz="0 0 0"/>
      <geometry>
        <mesh filename="meshes/wristV_Link.STL"/>
      </geometry>
      <material name="">
        <color rgba="0.2 0.2 0.2 1"/>
      </material>
    </visual>
    <collision>
      <origin rpy="0 0 0" xyz="0 0 0"/>
      <geometry>
        <mesh filename="meshes/wristV_Link.STL"/>
      </geometry>
    </collision>
  </link>
  <joint name="RF_wristH" type="revolute">
    <origin rpy="1.5708 0 0" xyz="0.025851 0 0"/>
    <parent link="RF_wristH_Link"/>
    <child link="RF_wristV_Link"/>
    <axis xyz="1 0 0"/>
    <limit effort="5" lower="-3.14159265358" upper="3.14159265358" velocity="5"/>
    <dynamics damping="0.1" friction="0.4"/>
  </joint>
  <link name="RF_driving_Link">
    <inertial>
      <origin rpy="0 0 0" xyz="5.44808065291863E-05 0.00431293338596027 0.0448909989385787"/>
      <mass value="0.132659951311712"/>
      <inertia ixx="3.76031003493078E-05" ixy="1.06164546307058E-08" ixz="7.08867360655478E-09" iyy="3.46919596241853E-05" iyz="4.14273177876885E-09" izz="4.32511275712205E-05"/>
    </inertial>
    <visual>
      <origin rpy="0 0 0" xyz="0 0 0"/>
      <geometry>
        <mesh filename="meshes/driving_Link.STL"/>
      </geometry>
      <material name="">
        <color rgba="0.2 0.2 0.2 1"/>
      </material>
    </visual>
    <collision>
      <origin rpy="0 0 0" xyz="0 0 0"/>
      <geometry>
        <mesh filename="meshes/driving_Link.STL"/>
      </geometry>
    </collision>
  </link>
  <joint name="RF_wristV" type="revolute">
    <origin rpy="0 0 0" xyz="0.0209 0 0.024008"/>
    <parent link="RF_wristV_Link"/>
    <child link="RF_driving_Link"/>
    <axis xyz="0 1 0"/>
    <limit effort="5" lower="-0.78539816339" upper="1.57079632679" velocity="5"/>
    <dynamics damping="0.1" friction="0.4"/>
  </joint>
  <link name="RF_gripper_Link">
    <inertial>
      <origin rpy="0 0 0" xyz="0.0710296935233056 0.0037135355484196 -0.00222742536711223"/>
      <mass value="0.415840817883391"/>
      <inertia ixx="0.000103581229161757" ixy="-5.56154912627397E-07" ixz="1.25700028997968E-06" iyy="5.98220979474832E-05" iyz="-5.92848495250994E-08" izz="8.09792661333327E-05"/>
    </inertial>
    <visual>
      <origin rpy="0 0 0" xyz="0 0 0"/>
      <geometry>
        <mesh filename="meshes/gripper_Link.STL"/>
      </geometry>
      <material name="">
        <color rgba="0.2 0.2 0.2 1"/>
      </material>
    </visual>
    <collision name="RF_gripper_Link_collision">
      <origin rpy="0 0 0" xyz="0 0 0"/>
      <geometry>
        <mesh filename="meshes/gripper_Link.STL"/>
      </geometry>
    </collision>
  </link>
  <joint name="RF_driving" type="continuous">
    <origin rpy="0 0 0" xyz="0.0131 0 0.04576"/>
    <parent link="RF_driving_Link"/>
    <child link="RF_gripper_Link"/>
    <axis xyz="-1 0 0"/>
    <dynamics damping="0.1" friction="0.4"/>
  </joint>
  <!-- Gazebo plugin for contact sensor, collision name like that because of parsing errors in the urdf  -->
  <gazebo reference="RF_gripper_Link">
    <sensor name="RF_gripper_bumper_sensor" type="contact">
      <always_on>true</always_on>
      <update_rate>100</update_rate>
      <contact>
        <collision>RF_gripper_Link_collision_collision</collision>
      </contact>
      <plugin filename="libgazebo_ros_bumper.so" name="RF_gripper_bumper">
        <ros>
          <namespace>RF</namespace>
        </ros>
        <frame_name>RF_gripper_link</frame_name>
      </plugin>
    </sensor>
  </gazebo>
  <ros2_control name="LF_ros2_control" type="system">
    <hardware>
      <plugin>gazebo_ros2_control/GazeboSystem</plugin>
    </hardware>
    <joint name="LF_B2C">
      <command_interface name="position">
        <param name="min">-10</param>
        <param name="max">10</param>
      </command_interface>
      <command_interface name="velocity">
        <param name="min">-0.5</param>
        <param name="max">0.5</param>
      </command_interface>
      <command_interface name="effort">
        <param name="min">-10</param>
        <param name="max">10</param>
      </command_interface>
      <state_interface name="position">
        <!-- Set initial joint position -->
        <param name="initial_value"> 0.0 </param>
      </state_interface>
      <state_interface name="velocity"/>
    </joint>
    <joint name="LF_C2F">
      <command_interface name="position">
        <param name="min">-10</param>
        <param name="max">10</param>
      </command_interface>
      <command_interface name="velocity">
        <param name="min">-0.5</param>
        <param name="max">0.5</param>
      </command_interface>
      <command_interface name="effort">
        <param name="min">-10</param>
        <param name="max">10</param>
      </command_interface>
      <state_interface name="position">
        <param name="initial_value"> 0.0 </param>
      </state_interface>
      <state_interface name="velocity"/>
    </joint>
    <joint name="LF_F2T">
      <command_interface name="position">
        <param name="min">-10</param>
        <param name="max">10</param>
      </command_interface>
      <command_interface name="velocity">
        <param name="min">-0.5</param>
        <param name="max">0.5</param>
      </command_interface>
      <command_interface name="effort">
        <param name="min">-10</param>
        <param name="max">10</param>
      </command_interface>
      <state_interface name="position">
        <param name="initial_value"> 1.5707963267948966 </param>
      </state_interface>
      <state_interface name="velocity"/>
    </joint>
    <joint name="LF_T2E">
      <command_interface name="position">
        <param name="min">-10</param>
        <param name="max">10</param>
      </command_interface>
      <command_interface name="velocity">
        <param name="min">-0.5</param>
        <param name="max">0.5</param>
      </command_interface>
      <command_interface name="effort">
        <param name="min">-10</param>
        <param name="max">10</param>
      </command_interface>
      <state_interface name="position">
        <param name="initial_value"> 0.0 </param>
      </state_interface>
      <state_interface name="velocity"/>
    </joint>
    <joint name="LF_wristH">
      <command_interface name="position">
        <param name="min">-10</param>
        <param name="max">10</param>
      </command_interface>
      <command_interface name="velocity">
        <param name="min">-0.5</param>
        <param name="max">0.5</param>
      </command_interface>
      <command_interface name="effort">
        <param name="min">-10</param>
        <param name="max">10</param>
      </command_interface>
      <state_interface name="position">
        <param name="initial_value"> 0.0 </param>
      </state_interface>
      <state_interface name="velocity"/>
    </joint>
    <joint name="LF_wristV">
      <command_interface name="position">
        <param name="min">-10</param>
        <param name="max">10</param>
      </command_interface>
      <command_interface name="velocity">
        <param name="min">-0.5</param>
        <param name="max">0.5</param>
      </command_interface>
      <command_interface name="effort">
        <param name="min">-10</param>
        <param name="max">10</param>
      </command_interface>
      <state_interface name="position">
        <param name="initial_value"> 0.0 </param>
      </state_interface>
      <state_interface name="velocity"/>
    </joint>
    <joint name="LF_driving">
      <command_interface name="position">
        <param name="min">-10</param>
        <param name="max">10</param>
      </command_interface>
      <command_interface name="velocity">
        <param name="min">-0.5</param>
        <param name="max">0.5</param>
      </command_interface>
      <command_interface name="effort">
        <param name="min">-10</param>
        <param name="max">10</param>
      </command_interface>
      <state_interface name="position">
        <param name="initial_value"> 0.0 </param>
      </state_interface>
      <state_interface name="velocity"/>
    </joint>
  </ros2_control>
  <ros2_control name="LH_ros2_control" type="system">
    <hardware>
      <plugin>gazebo_ros2_control/GazeboSystem</plugin>
    </hardware>
    <joint name="LH_B2C">
      <command_interface name="position">
        <param name="min">-10</param>
        <param name="max">10</param>
      </command_interface>
      <command_interface name="velocity">
        <param name="min">-0.5</param>
        <param name="max">0.5</param>
      </command_interface>
      <command_interface name="effort">
        <param name="min">-10</param>
        <param name="max">10</param>
      </command_interface>
      <state_interface name="position">
        <!-- Set initial joint position -->
        <param name="initial_value"> 0.0 </param>
      </state_interface>
      <state_interface name="velocity"/>
    </joint>
    <joint name="LH_C2F">
      <command_interface name="position">
        <param name="min">-10</param>
        <param name="max">10</param>
      </command_interface>
      <command_interface name="velocity">
        <param name="min">-0.5</param>
        <param name="max">0.5</param>
      </command_interface>
      <command_interface name="effort">
        <param name="min">-10</param>
        <param name="max">10</param>
      </command_interface>
      <state_interface name="position">
        <param name="initial_value"> 0.0 </param>
      </state_interface>
      <state_interface name="velocity"/>
    </joint>
    <joint name="LH_F2T">
      <command_interface name="position">
        <param name="min">-10</param>
        <param name="max">10</param>
      </command_interface>
      <command_interface name="velocity">
        <param name="min">-0.5</param>
        <param name="max">0.5</param>
      </command_interface>
      <command_interface name="effort">
        <param name="min">-10</param>
        <param name="max">10</param>
      </command_interface>
      <state_interface name="position">
        <param name="initial_value"> 1.5707963267948966 </param>
      </state_interface>
      <state_interface name="velocity"/>
    </joint>
    <joint name="LH_T2E">
      <command_interface name="position">
        <param name="min">-10</param>
        <param name="max">10</param>
      </command_interface>
      <command_interface name="velocity">
        <param name="min">-0.5</param>
        <param name="max">0.5</param>
      </command_interface>
      <command_interface name="effort">
        <param name="min">-10</param>
        <param name="max">10</param>
      </command_interface>
      <state_interface name="position">
        <param name="initial_value"> 0.0 </param>
      </state_interface>
      <state_interface name="velocity"/>
    </joint>
    <joint name="LH_wristH">
      <command_interface name="position">
        <param name="min">-10</param>
        <param name="max">10</param>
      </command_interface>
      <command_interface name="velocity">
        <param name="min">-0.5</param>
        <param name="max">0.5</param>
      </command_interface>
      <command_interface name="effort">
        <param name="min">-10</param>
        <param name="max">10</param>
      </command_interface>
      <state_interface name="position">
        <param name="initial_value"> 0.0 </param>
      </state_interface>
      <state_interface name="velocity"/>
    </joint>
    <joint name="LH_wristV">
      <command_interface name="position">
        <param name="min">-10</param>
        <param name="max">10</param>
      </command_interface>
      <command_interface name="velocity">
        <param name="min">-0.5</param>
        <param name="max">0.5</param>
      </command_interface>
      <command_interface name="effort">
        <param name="min">-10</param>
        <param name="max">10</param>
      </command_interface>
      <state_interface name="position">
        <param name="initial_value"> 0.0 </param>
      </state_interface>
      <state_interface name="velocity"/>
    </joint>
    <joint name="LH_driving">
      <command_interface name="position">
        <param name="min">-10</param>
        <param name="max">10</param>
      </command_interface>
      <command_interface name="velocity">
        <param name="min">-0.5</param>
        <param name="max">0.5</param>
      </command_interface>
      <command_interface name="effort">
        <param name="min">-10</param>
        <param name="max">10</param>
      </command_interface>
      <state_interface name="position">
        <param name="initial_value"> 0.0 </param>
      </state_interface>
      <state_interface name="velocity"/>
    </joint>
  </ros2_control>
  <ros2_control name="RH_ros2_control" type="system">
    <hardware>
      <plugin>gazebo_ros2_control/GazeboSystem</plugin>
    </hardware>
    <joint name="RH_B2C">
      <command_interface name="position">
        <param name="min">-10</param>
        <param name="max">10</param>
      </command_interface>
      <command_interface name="velocity">
        <param name="min">-0.5</param>
        <param name="max">0.5</param>
      </command_interface>
      <command_interface name="effort">
        <param name="min">-10</param>
        <param name="max">10</param>
      </command_interface>
      <state_interface name="position">
        <!-- Set initial joint position -->
        <param name="initial_value"> 0.0 </param>
      </state_interface>
      <state_interface name="velocity"/>
    </joint>
    <joint name="RH_C2F">
      <command_interface name="position">
        <param name="min">-10</param>
        <param name="max">10</param>
      </command_interface>
      <command_interface name="velocity">
        <param name="min">-0.5</param>
        <param name="max">0.5</param>
      </command_interface>
      <command_interface name="effort">
        <param name="min">-10</param>
        <param name="max">10</param>
      </command_interface>
      <state_interface name="position">
        <param name="initial_value"> 0.0 </param>
      </state_interface>
      <state_interface name="velocity"/>
    </joint>
    <joint name="RH_F2T">
      <command_interface name="position">
        <param name="min">-10</param>
        <param name="max">10</param>
      </command_interface>
      <command_interface name="velocity">
        <param name="min">-0.5</param>
        <param name="max">0.5</param>
      </command_interface>
      <command_interface name="effort">
        <param name="min">-10</param>
        <param name="max">10</param>
      </command_interface>
      <state_interface name="position">
        <param name="initial_value"> 1.5707963267948966 </param>
      </state_interface>
      <state_interface name="velocity"/>
    </joint>
    <joint name="RH_T2E">
      <command_interface name="position">
        <param name="min">-10</param>
        <param name="max">10</param>
      </command_interface>
      <command_interface name="velocity">
        <param name="min">-0.5</param>
        <param name="max">0.5</param>
      </command_interface>
      <command_interface name="effort">
        <param name="min">-10</param>
        <param name="max">10</param>
      </command_interface>
      <state_interface name="position">
        <param name="initial_value"> 0.0 </param>
      </state_interface>
      <state_interface name="velocity"/>
    </joint>
    <joint name="RH_wristH">
      <command_interface name="position">
        <param name="min">-10</param>
        <param name="max">10</param>
      </command_interface>
      <command_interface name="velocity">
        <param name="min">-0.5</param>
        <param name="max">0.5</param>
      </command_interface>
      <command_interface name="effort">
        <param name="min">-10</param>
        <param name="max">10</param>
      </command_interface>
      <state_interface name="position">
        <param name="initial_value"> 0.0 </param>
      </state_interface>
      <state_interface name="velocity"/>
    </joint>
    <joint name="RH_wristV">
      <command_interface name="position">
        <param name="min">-10</param>
        <param name="max">10</param>
      </command_interface>
      <command_interface name="velocity">
        <param name="min">-0.5</param>
        <param name="max">0.5</param>
      </command_interface>
      <command_interface name="effort">
        <param name="min">-10</param>
        <param name="max">10</param>
      </command_interface>
      <state_interface name="position">
        <param name="initial_value"> 0.0 </param>
      </state_interface>
      <state_interface name="velocity"/>
    </joint>
    <joint name="RH_driving">
      <command_interface name="position">
        <param name="min">-10</param>
        <param name="max">10</param>
      </command_interface>
      <command_interface name="velocity">
        <param name="min">-0.5</param>
        <param name="max">0.5</param>
      </command_interface>
      <command_interface name="effort">
        <param name="min">-10</param>
        <param name="max">10</param>
      </command_interface>
      <state_interface name="position">
        <param name="initial_value"> 0.0 </param>
      </state_interface>
      <state_interface name="velocity"/>
    </joint>
  </ros2_control>
  <ros2_control name="RF_ros2_control" type="system">
    <hardware>
      <plugin>gazebo_ros2_control/GazeboSystem</plugin>
    </hardware>
    <joint name="RF_B2C">
      <command_interface name="position">
        <param name="min">-10</param>
        <param name="max">10</param>
      </command_interface>
      <command_interface name="velocity">
        <param name="min">-0.5</param>
        <param name="max">0.5</param>
      </command_interface>
      <command_interface name="effort">
        <param name="min">-10</param>
        <param name="max">10</param>
      </command_interface>
      <state_interface name="position">
        <!-- Set initial joint position -->
        <param name="initial_value"> 0.0 </param>
      </state_interface>
      <state_interface name="velocity"/>
    </joint>
    <joint name="RF_C2F">
      <command_interface name="position">
        <param name="min">-10</param>
        <param name="max">10</param>
      </command_interface>
      <command_interface name="velocity">
        <param name="min">-0.5</param>
        <param name="max">0.5</param>
      </command_interface>
      <command_interface name="effort">
        <param name="min">-10</param>
        <param name="max">10</param>
      </command_interface>
      <state_interface name="position">
        <param name="initial_value"> 0.0 </param>
      </state_interface>
      <state_interface name="velocity"/>
    </joint>
    <joint name="RF_F2T">
      <command_interface name="position">
        <param name="min">-10</param>
        <param name="max">10</param>
      </command_interface>
      <command_interface name="velocity">
        <param name="min">-0.5</param>
        <param name="max">0.5</param>
      </command_interface>
      <command_interface name="effort">
        <param name="min">-10</param>
        <param name="max">10</param>
      </command_interface>
      <state_interface name="position">
        <param name="initial_value"> 1.5707963267948966 </param>
      </state_interface>
      <state_interface name="velocity"/>
    </joint>
    <joint name="RF_T2E">
      <command_interface name="position">
        <param name="min">-10</param>
        <param name="max">10</param>
      </command_interface>
      <command_interface name="velocity">
        <param name="min">-0.5</param>
        <param name="max">0.5</param>
      </command_interface>
      <command_interface name="effort">
        <param name="min">-10</param>
        <param name="max">10</param>
      </command_interface>
      <state_interface name="position">
        <param name="initial_value"> 0.0 </param>
      </state_interface>
      <state_interface name="velocity"/>
    </joint>
    <joint name="RF_wristH">
      <command_interface name="position">
        <param name="min">-10</param>
        <param name="max">10</param>
      </command_interface>
      <command_interface name="velocity">
        <param name="min">-0.5</param>
        <param name="max">0.5</param>
      </command_interface>
      <command_interface name="effort">
        <param name="min">-10</param>
        <param name="max">10</param>
      </command_interface>
      <state_interface name="position">
        <param name="initial_value"> 0.0 </param>
      </state_interface>
      <state_interface name="velocity"/>
    </joint>
    <joint name="RF_wristV">
      <command_interface name="position">
        <param name="min">-10</param>
        <param name="max">10</param>
      </command_interface>
      <command_interface name="velocity">
        <param name="min">-0.5</param>
        <param name="max">0.5</param>
      </command_interface>
      <command_interface name="effort">
        <param name="min">-10</param>
        <param name="max">10</param>
      </command_interface>
      <state_interface name="position">
        <param name="initial_value"> 0.0 </param>
      </state_interface>
      <state_interface name="velocity"/>
    </joint>
    <joint name="RF_driving">
      <command_interface name="position">
        <param name="min">-10</param>
        <param name="max">10</param>
      </command_interface>
      <command_interface name="velocity">
        <param name="min">-0.5</param>
        <param name="max">0.5</param>
      </command_interface>
      <command_interface name="effort">
        <param name="min">-10</param>
        <param name="max">10</param>
      </command_interface>
      <state_interface name="position">
        <param name="initial_value"> 0.0 </param>
      </state_interface>
      <state_interface name="velocity"/>
    </joint>
  </ros2_control>
  <!-- Gazebo plugin for joint state publisher  -->
  <gazebo>
    <plugin filename="libgazebo_ros_joint_state_publisher.so" name="LF_joint_state">
      <ros>
        <namespace>LF</namespace>
        <remapping>~/out:=joint_states</remapping>
      </ros>
      <update_rate>30</update_rate>
      <!-- <joint_name>${prefix}_E2grieel</joint_name> -->
      <joint_name>LF_B2C</joint_name>
      <joint_name>LF_C2F</joint_name>
      <joint_name>LF_F2T</joint_name>
      <joint_name>LF_T2E</joint_name>
      <joint_name>LF_wristH</joint_name>
      <joint_name>LF_wristV</joint_name>
      <joint_name>LF_driving</joint_name>
    </plugin>
  </gazebo>
  <!-- Gazebo plugin for joint state publisher  -->
  <gazebo>
    <plugin filename="libgazebo_ros_joint_state_publisher.so" name="LH_joint_state">
      <ros>
        <namespace>LH</namespace>
        <remapping>~/out:=joint_states</remapping>
      </ros>
      <update_rate>30</update_rate>
      <!-- <joint_name>${prefix}_E2grieel</joint_name> -->
      <joint_name>LH_B2C</joint_name>
      <joint_name>LH_C2F</joint_name>
      <joint_name>LH_F2T</joint_name>
      <joint_name>LH_T2E</joint_name>
      <joint_name>LH_wristH</joint_name>
      <joint_name>LH_wristV</joint_name>
      <joint_name>LH_driving</joint_name>
    </plugin>
  </gazebo>
  <!-- Gazebo plugin for joint state publisher  -->
  <gazebo>
    <plugin filename="libgazebo_ros_joint_state_publisher.so" name="RH_joint_state">
      <ros>
        <namespace>RH</namespace>
        <remapping>~/out:=joint_states</remapping>
      </ros>
      <update_rate>30</update_rate>
      <!-- <joint_name>${prefix}_E2grieel</joint_name> -->
      <joint_name>RH_B2C</joint_name>
      <joint_name>RH_C2F</joint_name>
      <joint_name>RH_F2T</joint_name>
      <joint_name>RH_T2E</joint_name>
      <joint_name>RH_wristH</joint_name>
      <joint_name>RH_wristV</joint_name>
      <joint_name>RH_driving</joint_name>
    </plugin>
  </gazebo>
  <!-- Gazebo plugin for joint state publisher  -->
  <gazebo>
    <plugin filename="libgazebo_ros_joint_state_publisher.so" name="RF_joint_state">
      <ros>
        <namespace>RF</namespace>
        <remapping>~/out:=joint_states</remapping>
      </ros>
      <update_rate>30</update_rate>
      <!-- <joint_name>${prefix}_E2grieel</joint_name> -->
      <joint_name>RF_B2C</joint_name>
      <joint_name>RF_C2F</joint_name>
      <joint_name>RF_F2T</joint_name>
      <joint_name>RF_T2E</joint_name>
      <joint_name>RF_wristH</joint_name>
      <joint_name>RF_wristV</joint_name>
      <joint_name>RF_driving</joint_name>
    </plugin>
  </gazebo>
  <gazebo reference="LF_gripper_Link">
    <mu1>0.5</mu1>
    <mu2>0.5</mu2>
    <kp>1000000</kp>
    <kd>1.0</kd>
  </gazebo>
  <gazebo reference="LF_femur">
    <material>Gazebo/Black</material>
    <visual>
      <material>
        <ambient>0.2 0.2 0.2 1</ambient>
        <diffuse>0.2 0.2 0.2 1</diffuse>
        <specular>0.01 0.01 0.01 1</specular>
        <emissive>0.01 0.01 0.01 1</emissive>
      </material>
    </visual>
  </gazebo>
  <gazebo reference="LF_tibia">
    <material>Gazebo/Black</material>
    <visual>
      <material>
        <ambient>0.2 0.2 0.2 1</ambient>
        <diffuse>0.2 0.2 0.2 1</diffuse>
        <specular>0.01 0.01 0.01 1</specular>
        <emissive>0.01 0.01 0.01 1</emissive>
      </material>
    </visual>
  </gazebo>
  <gazebo reference="LF_limb_end">
    <material>Gazebo/Black</material>
    <visual>
      <material>
        <ambient>0.2 0.2 0.2 1</ambient>
        <diffuse>0.2 0.2 0.2 1</diffuse>
        <specular>0.01 0.01 0.01 1</specular>
        <emissive>0.01 0.01 0.01 1</emissive>
      </material>
    </visual>
  </gazebo>
  <gazebo reference="LF_limb_root">
    <material>Gazebo/Black</material>
    <visual>
      <material>
        <ambient>0.2 0.2 0.2 1</ambient>
        <diffuse>0.2 0.2 0.2 1</diffuse>
        <specular>0.01 0.01 0.01 1</specular>
        <emissive>0.01 0.01 0.01 1</emissive>
      </material>
    </visual>
  </gazebo>
  <gazebo reference="LF_coxa">
    <material>Gazebo/Black</material>
    <visual>
      <material>
        <ambient>0.2 0.2 0.2 1</ambient>
        <diffuse>0.2 0.2 0.2 1</diffuse>
        <specular>0.01 0.01 0.01 1</specular>
        <emissive>0.01 0.01 0.01 1</emissive>
      </material>
    </visual>
  </gazebo>
  <gazebo reference="LF_wristH_Link">
    <material>Gazebo/Black</material>
    <visual>
      <material>
        <ambient>0.2 0.2 0.2 1</ambient>
        <diffuse>0.2 0.2 0.2 1</diffuse>
        <specular>0.01 0.01 0.01 1</specular>
        <emissive>0.01 0.01 0.01 1</emissive>
      </material>
    </visual>
  </gazebo>
  <gazebo reference="LF_wristV_Link">
    <material>Gazebo/Black</material>
    <visual>
      <material>
        <ambient>0.2 0.2 0.2 1</ambient>
        <diffuse>0.2 0.2 0.2 1</diffuse>
        <specular>0.01 0.01 0.01 1</specular>
        <emissive>0.01 0.01 0.01 1</emissive>
      </material>
    </visual>
  </gazebo>
  <gazebo reference="LF_driving_Link">
    <material>Gazebo/Black</material>
    <visual>
      <material>
        <ambient>0.2 0.2 0.2 1</ambient>
        <diffuse>0.2 0.2 0.2 1</diffuse>
        <specular>0.01 0.01 0.01 1</specular>
        <emissive>0.01 0.01 0.01 1</emissive>
      </material>
    </visual>
  </gazebo>
  <gazebo reference="LF_gripper_Link">
    <material>Gazebo/Black</material>
    <visual>
      <material>
        <ambient>0.2 0.2 0.2 1</ambient>
        <diffuse>0.2 0.2 0.2 1</diffuse>
        <specular>0.01 0.01 0.01 1</specular>
        <emissive>0.01 0.01 0.01 1</emissive>
      </material>
    </visual>
  </gazebo>
  <gazebo reference="LF_wheel_Link">
    <material>Gazebo/Black</material>
    <visual>
      <material>
        <ambient>0.2 0.2 0.2 1</ambient>
        <diffuse>0.2 0.2 0.2 1</diffuse>
        <specular>0.01 0.01 0.01 1</specular>
        <emissive>0.01 0.01 0.01 1</emissive>
      </material>
    </visual>
  </gazebo>
  <gazebo reference="LH_gripper_Link">
    <mu1>0.5</mu1>
    <mu2>0.5</mu2>
    <kp>1000000</kp>
    <kd>1.0</kd>
  </gazebo>
  <gazebo reference="LH_femur">
    <material>Gazebo/Black</material>
    <visual>
      <material>
        <ambient>0.2 0.2 0.2 1</ambient>
        <diffuse>0.2 0.2 0.2 1</diffuse>
        <specular>0.01 0.01 0.01 1</specular>
        <emissive>0.01 0.01 0.01 1</emissive>
      </material>
    </visual>
  </gazebo>
  <gazebo reference="LH_tibia">
    <material>Gazebo/Black</material>
    <visual>
      <material>
        <ambient>0.2 0.2 0.2 1</ambient>
        <diffuse>0.2 0.2 0.2 1</diffuse>
        <specular>0.01 0.01 0.01 1</specular>
        <emissive>0.01 0.01 0.01 1</emissive>
      </material>
    </visual>
  </gazebo>
  <gazebo reference="LH_limb_end">
    <material>Gazebo/Black</material>
    <visual>
      <material>
        <ambient>0.2 0.2 0.2 1</ambient>
        <diffuse>0.2 0.2 0.2 1</diffuse>
        <specular>0.01 0.01 0.01 1</specular>
        <emissive>0.01 0.01 0.01 1</emissive>
      </material>
    </visual>
  </gazebo>
  <gazebo reference="LH_limb_root">
    <material>Gazebo/Black</material>
    <visual>
      <material>
        <ambient>0.2 0.2 0.2 1</ambient>
        <diffuse>0.2 0.2 0.2 1</diffuse>
        <specular>0.01 0.01 0.01 1</specular>
        <emissive>0.01 0.01 0.01 1</emissive>
      </material>
    </visual>
  </gazebo>
  <gazebo reference="LH_coxa">
    <material>Gazebo/Black</material>
    <visual>
      <material>
        <ambient>0.2 0.2 0.2 1</ambient>
        <diffuse>0.2 0.2 0.2 1</diffuse>
        <specular>0.01 0.01 0.01 1</specular>
        <emissive>0.01 0.01 0.01 1</emissive>
      </material>
    </visual>
  </gazebo>
  <gazebo reference="LH_wristH_Link">
    <material>Gazebo/Black</material>
    <visual>
      <material>
        <ambient>0.2 0.2 0.2 1</ambient>
        <diffuse>0.2 0.2 0.2 1</diffuse>
        <specular>0.01 0.01 0.01 1</specular>
        <emissive>0.01 0.01 0.01 1</emissive>
      </material>
    </visual>
  </gazebo>
  <gazebo reference="LH_wristV_Link">
    <material>Gazebo/Black</material>
    <visual>
      <material>
        <ambient>0.2 0.2 0.2 1</ambient>
        <diffuse>0.2 0.2 0.2 1</diffuse>
        <specular>0.01 0.01 0.01 1</specular>
        <emissive>0.01 0.01 0.01 1</emissive>
      </material>
    </visual>
  </gazebo>
  <gazebo reference="LH_driving_Link">
    <material>Gazebo/Black</material>
    <visual>
      <material>
        <ambient>0.2 0.2 0.2 1</ambient>
        <diffuse>0.2 0.2 0.2 1</diffuse>
        <specular>0.01 0.01 0.01 1</specular>
        <emissive>0.01 0.01 0.01 1</emissive>
      </material>
    </visual>
  </gazebo>
  <gazebo reference="LH_gripper_Link">
    <material>Gazebo/Black</material>
    <visual>
      <material>
        <ambient>0.2 0.2 0.2 1</ambient>
        <diffuse>0.2 0.2 0.2 1</diffuse>
        <specular>0.01 0.01 0.01 1</specular>
        <emissive>0.01 0.01 0.01 1</emissive>
      </material>
    </visual>
  </gazebo>
  <gazebo reference="LH_wheel_Link">
    <material>Gazebo/Black</material>
    <visual>
      <material>
        <ambient>0.2 0.2 0.2 1</ambient>
        <diffuse>0.2 0.2 0.2 1</diffuse>
        <specular>0.01 0.01 0.01 1</specular>
        <emissive>0.01 0.01 0.01 1</emissive>
      </material>
    </visual>
  </gazebo>
  <gazebo reference="RH_gripper_Link">
    <mu1>0.5</mu1>
    <mu2>0.5</mu2>
    <kp>1000000</kp>
    <kd>1.0</kd>
  </gazebo>
  <gazebo reference="RH_femur">
    <material>Gazebo/Black</material>
    <visual>
      <material>
        <ambient>0.2 0.2 0.2 1</ambient>
        <diffuse>0.2 0.2 0.2 1</diffuse>
        <specular>0.01 0.01 0.01 1</specular>
        <emissive>0.01 0.01 0.01 1</emissive>
      </material>
    </visual>
  </gazebo>
  <gazebo reference="RH_tibia">
    <material>Gazebo/Black</material>
    <visual>
      <material>
        <ambient>0.2 0.2 0.2 1</ambient>
        <diffuse>0.2 0.2 0.2 1</diffuse>
        <specular>0.01 0.01 0.01 1</specular>
        <emissive>0.01 0.01 0.01 1</emissive>
      </material>
    </visual>
  </gazebo>
  <gazebo reference="RH_limb_end">
    <material>Gazebo/Black</material>
    <visual>
      <material>
        <ambient>0.2 0.2 0.2 1</ambient>
        <diffuse>0.2 0.2 0.2 1</diffuse>
        <specular>0.01 0.01 0.01 1</specular>
        <emissive>0.01 0.01 0.01 1</emissive>
      </material>
    </visual>
  </gazebo>
  <gazebo reference="RH_limb_root">
    <material>Gazebo/Black</material>
    <visual>
      <material>
        <ambient>0.2 0.2 0.2 1</ambient>
        <diffuse>0.2 0.2 0.2 1</diffuse>
        <specular>0.01 0.01 0.01 1</specular>
        <emissive>0.01 0.01 0.01 1</emissive>
      </material>
    </visual>
  </gazebo>
  <gazebo reference="RH_coxa">
    <material>Gazebo/Black</material>
    <visual>
      <material>
        <ambient>0.2 0.2 0.2 1</ambient>
        <diffuse>0.2 0.2 0.2 1</diffuse>
        <specular>0.01 0.01 0.01 1</specular>
        <emissive>0.01 0.01 0.01 1</emissive>
      </material>
    </visual>
  </gazebo>
  <gazebo reference="RH_wristH_Link">
    <material>Gazebo/Black</material>
    <visual>
      <material>
        <ambient>0.2 0.2 0.2 1</ambient>
        <diffuse>0.2 0.2 0.2 1</diffuse>
        <specular>0.01 0.01 0.01 1</specular>
        <emissive>0.01 0.01 0.01 1</emissive>
      </material>
    </visual>
  </gazebo>
  <gazebo reference="RH_wristV_Link">
    <material>Gazebo/Black</material>
    <visual>
      <material>
        <ambient>0.2 0.2 0.2 1</ambient>
        <diffuse>0.2 0.2 0.2 1</diffuse>
        <specular>0.01 0.01 0.01 1</specular>
        <emissive>0.01 0.01 0.01 1</emissive>
      </material>
    </visual>
  </gazebo>
  <gazebo reference="RH_driving_Link">
    <material>Gazebo/Black</material>
    <visual>
      <material>
        <ambient>0.2 0.2 0.2 1</ambient>
        <diffuse>0.2 0.2 0.2 1</diffuse>
        <specular>0.01 0.01 0.01 1</specular>
        <emissive>0.01 0.01 0.01 1</emissive>
      </material>
    </visual>
  </gazebo>
  <gazebo reference="RH_gripper_Link">
    <material>Gazebo/Black</material>
    <visual>
      <material>
        <ambient>0.2 0.2 0.2 1</ambient>
        <diffuse>0.2 0.2 0.2 1</diffuse>
        <specular>0.01 0.01 0.01 1</specular>
        <emissive>0.01 0.01 0.01 1</emissive>
      </material>
    </visual>
  </gazebo>
  <gazebo reference="RH_wheel_Link">
    <material>Gazebo/Black</material>
    <visual>
      <material>
        <ambient>0.2 0.2 0.2 1</ambient>
        <diffuse>0.2 0.2 0.2 1</diffuse>
        <specular>0.01 0.01 0.01 1</specular>
        <emissive>0.01 0.01 0.01 1</emissive>
      </material>
    </visual>
  </gazebo>
  <gazebo reference="RF_gripper_Link">
    <mu1>0.5</mu1>
    <mu2>0.5</mu2>
    <kp>1000000</kp>
    <kd>1.0</kd>
  </gazebo>
  <gazebo reference="RF_femur">
    <material>Gazebo/Black</material>
    <visual>
      <material>
        <ambient>0.2 0.2 0.2 1</ambient>
        <diffuse>0.2 0.2 0.2 1</diffuse>
        <specular>0.01 0.01 0.01 1</specular>
        <emissive>0.01 0.01 0.01 1</emissive>
      </material>
    </visual>
  </gazebo>
  <gazebo reference="RF_tibia">
    <material>Gazebo/Black</material>
    <visual>
      <material>
        <ambient>0.2 0.2 0.2 1</ambient>
        <diffuse>0.2 0.2 0.2 1</diffuse>
        <specular>0.01 0.01 0.01 1</specular>
        <emissive>0.01 0.01 0.01 1</emissive>
      </material>
    </visual>
  </gazebo>
  <gazebo reference="RF_limb_end">
    <material>Gazebo/Black</material>
    <visual>
      <material>
        <ambient>0.2 0.2 0.2 1</ambient>
        <diffuse>0.2 0.2 0.2 1</diffuse>
        <specular>0.01 0.01 0.01 1</specular>
        <emissive>0.01 0.01 0.01 1</emissive>
      </material>
    </visual>
  </gazebo>
  <gazebo reference="RF_limb_root">
    <material>Gazebo/Black</material>
    <visual>
      <material>
        <ambient>0.2 0.2 0.2 1</ambient>
        <diffuse>0.2 0.2 0.2 1</diffuse>
        <specular>0.01 0.01 0.01 1</specular>
        <emissive>0.01 0.01 0.01 1</emissive>
      </material>
    </visual>
  </gazebo>
  <gazebo reference="RF_coxa">
    <material>Gazebo/Black</material>
    <visual>
      <material>
        <ambient>0.2 0.2 0.2 1</ambient>
        <diffuse>0.2 0.2 0.2 1</diffuse>
        <specular>0.01 0.01 0.01 1</specular>
        <emissive>0.01 0.01 0.01 1</emissive>
      </material>
    </visual>
  </gazebo>
  <gazebo reference="RF_wristH_Link">
    <material>Gazebo/Black</material>
    <visual>
      <material>
        <ambient>0.2 0.2 0.2 1</ambient>
        <diffuse>0.2 0.2 0.2 1</diffuse>
        <specular>0.01 0.01 0.01 1</specular>
        <emissive>0.01 0.01 0.01 1</emissive>
      </material>
    </visual>
  </gazebo>
  <gazebo reference="RF_wristV_Link">
    <material>Gazebo/Black</material>
    <visual>
      <material>
        <ambient>0.2 0.2 0.2 1</ambient>
        <diffuse>0.2 0.2 0.2 1</diffuse>
        <specular>0.01 0.01 0.01 1</specular>
        <emissive>0.01 0.01 0.01 1</emissive>
      </material>
    </visual>
  </gazebo>
  <gazebo reference="RF_driving_Link">
    <material>Gazebo/Black</material>
    <visual>
      <material>
        <ambient>0.2 0.2 0.2 1</ambient>
        <diffuse>0.2 0.2 0.2 1</diffuse>
        <specular>0.01 0.01 0.01 1</specular>
        <emissive>0.01 0.01 0.01 1</emissive>
      </material>
    </visual>
  </gazebo>
  <gazebo reference="RF_gripper_Link">
    <material>Gazebo/Black</material>
    <visual>
      <material>
        <ambient>0.2 0.2 0.2 1</ambient>
        <diffuse>0.2 0.2 0.2 1</diffuse>
        <specular>0.01 0.01 0.01 1</specular>
        <emissive>0.01 0.01 0.01 1</emissive>
      </material>
    </visual>
  </gazebo>
  <gazebo reference="RF_wheel_Link">
    <material>Gazebo/Black</material>
    <visual>
      <material>
        <ambient>0.2 0.2 0.2 1</ambient>
        <diffuse>0.2 0.2 0.2 1</diffuse>
        <specular>0.01 0.01 0.01 1</specular>
        <emissive>0.01 0.01 0.01 1</emissive>
      </material>
    </visual>
  </gazebo>
</robot>
